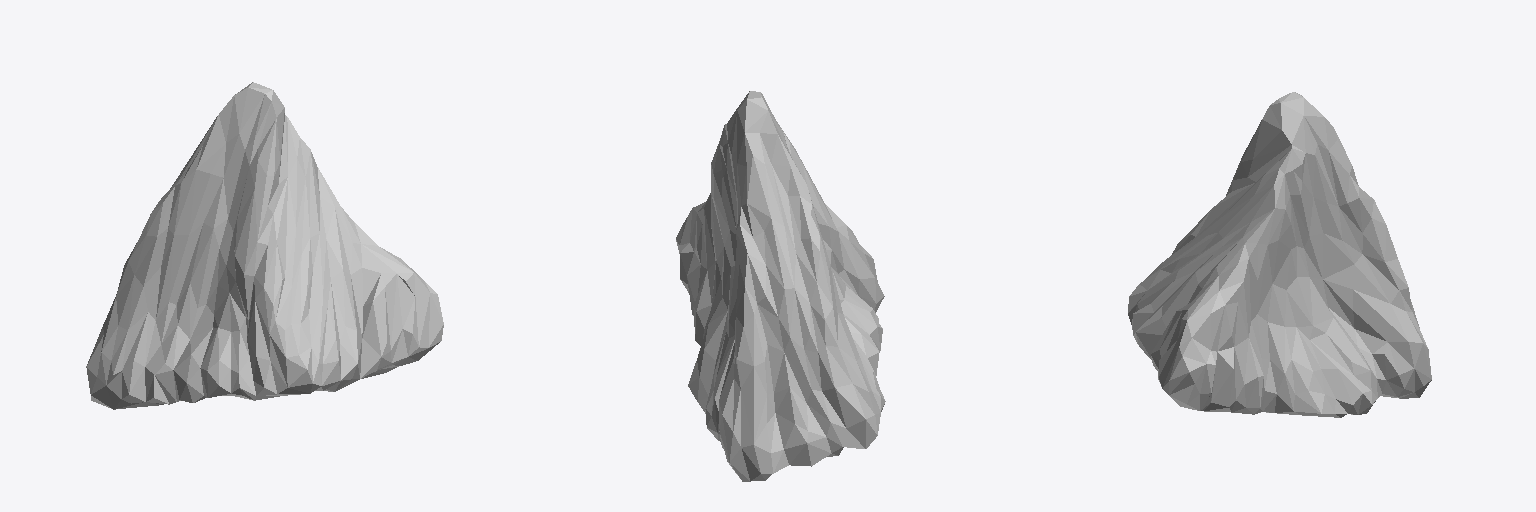
File: CL_drums_dir2_LOD2.obj
3 views of the same model, side by side, from view 1: azimuth 30°, elevation 25°; view 2: azimuth 150°, elevation 25°; view 3: azimuth 270°, elevation 25° (orthographic).
Size of the model in its own units: 0.8585 by 0.9774 by 0.8218.